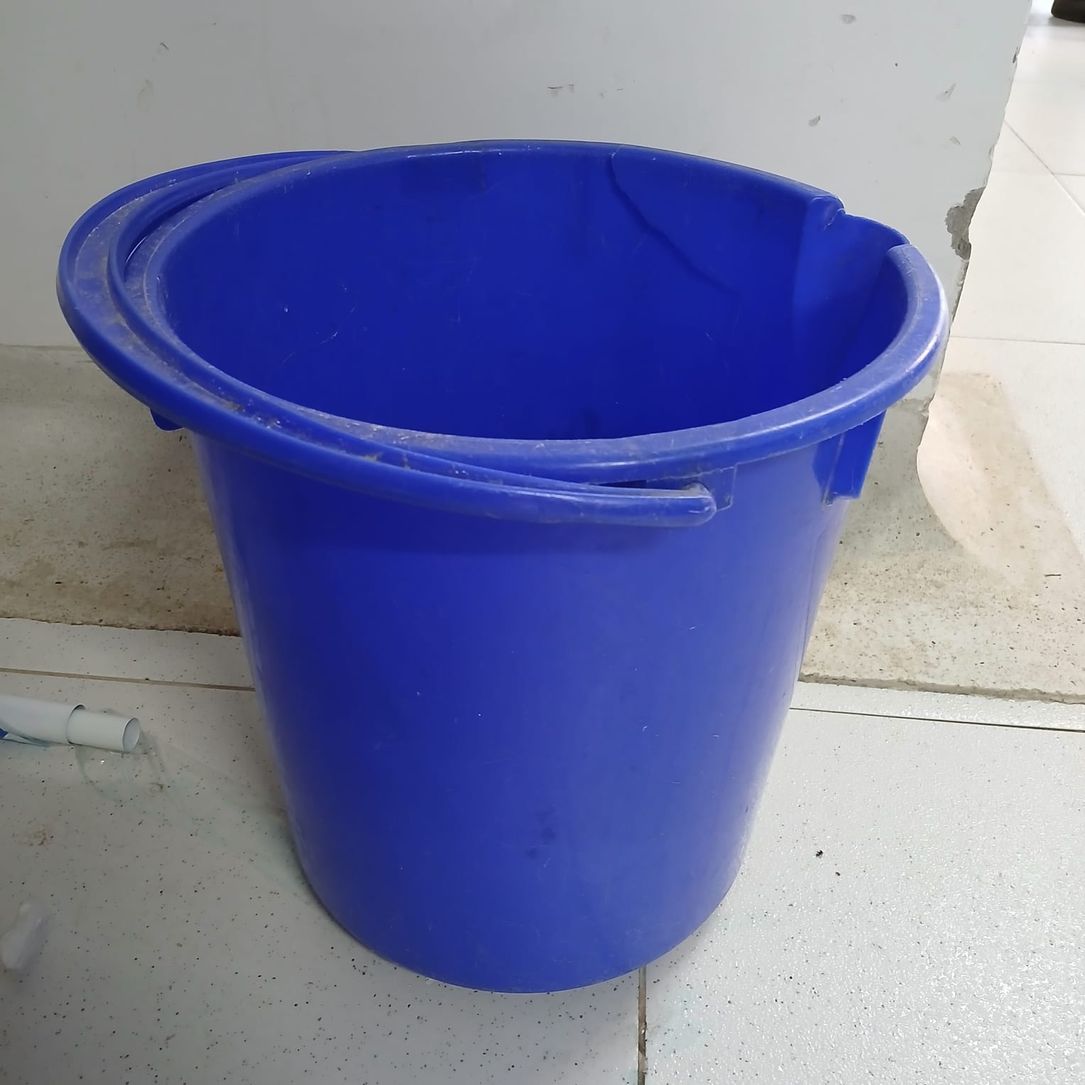Plastico: (58, 138, 949, 997)
